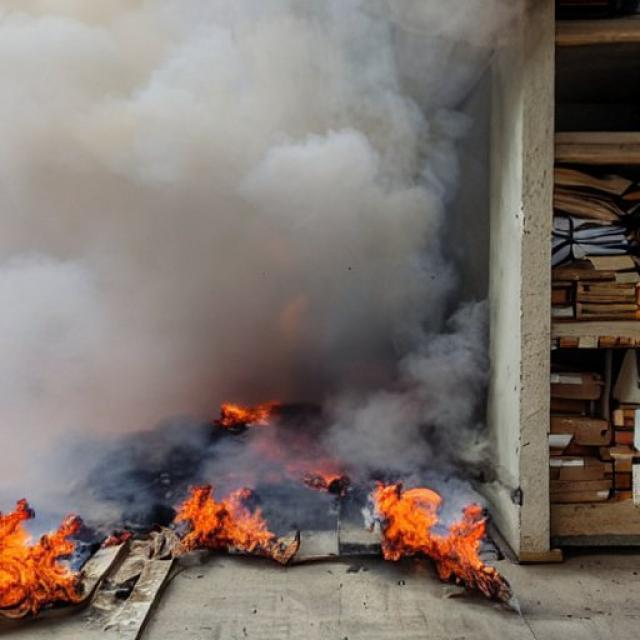Fire: (372, 483, 506, 591), (0, 502, 92, 619), (168, 478, 282, 559)
Smoke: (0, 0, 488, 474)
